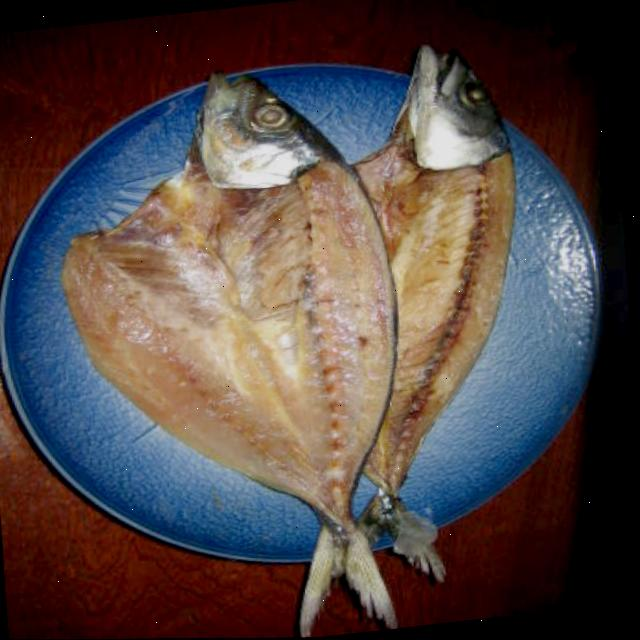熟制海鲜: (6, 0, 592, 640)
